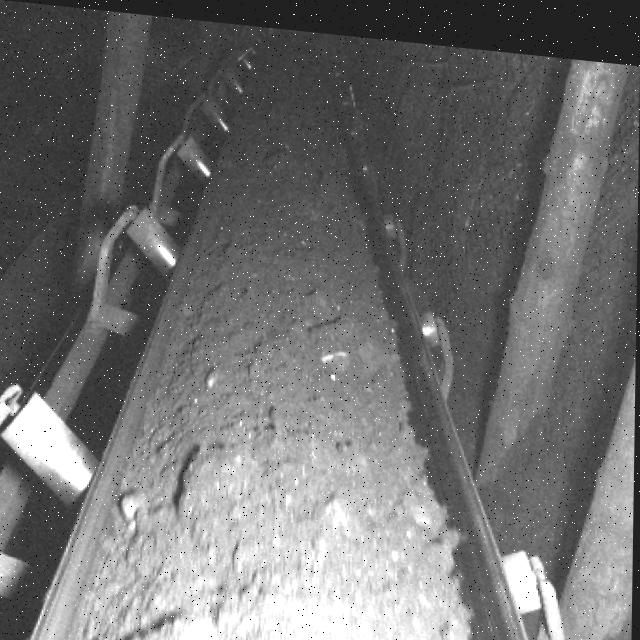large_sized_coal: (182, 442, 263, 524), (97, 604, 224, 640)
